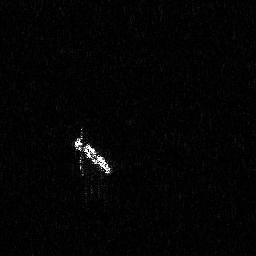ship: (69, 125, 114, 179)
